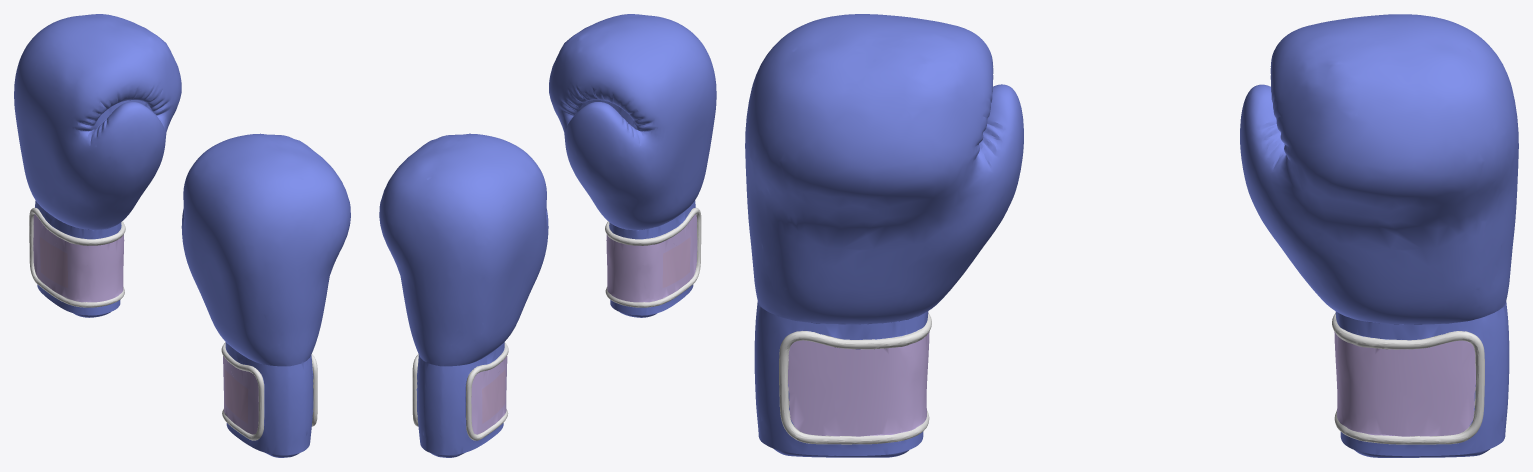
File: Gloves.fbx
3 views of the same model, side by side, from view 1: azimuth 30°, elevation 25°; view 2: azimuth 150°, elevation 25°; view 3: azimuth 270°, elevation 25° (orthographic). The views are drawn at different scales.
Visible parts, largest first — view 1: Gloves_R, Gloves_L; view 2: Gloves_L, Gloves_R; view 3: Gloves_L, Gloves_R.
Part boxes in pixels (<box>): Gloves_R: <box>181,133,350,457</box>; Gloves_L: <box>14,14,181,317</box>; Gloves_L: <box>379,133,548,457</box>; Gloves_R: <box>549,14,716,317</box>; Gloves_L: <box>1240,14,1518,457</box>; Gloves_R: <box>745,14,1023,457</box>.
Bounding box in the file's own units: 11.95 × 23.64 × 38.77.
